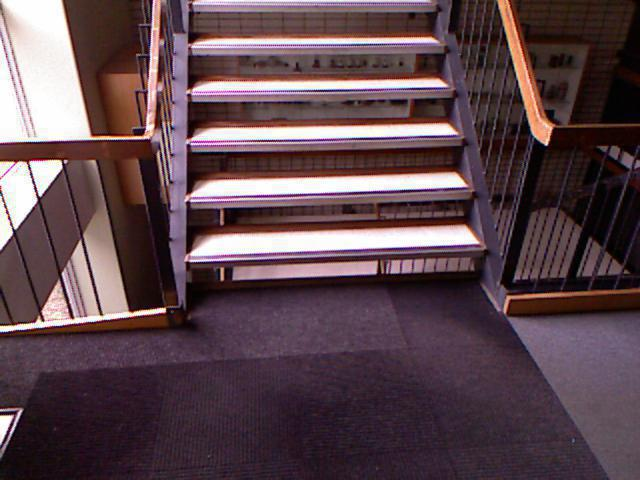Escaleras: (171, 7, 492, 287)
